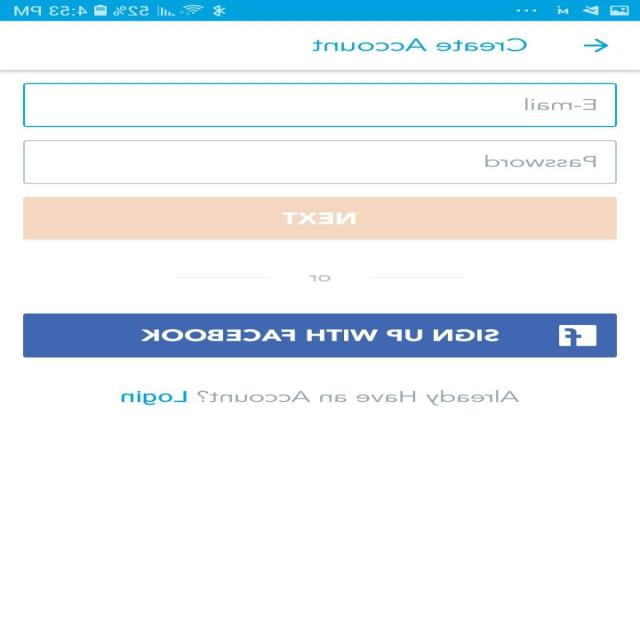EditText: (24, 139, 618, 184), (24, 83, 618, 127)
Icon: (583, 38, 609, 53)
Text: (122, 389, 520, 406), (313, 37, 527, 52), (486, 155, 596, 167), (526, 98, 596, 110), (308, 275, 332, 281)
TextButton: (24, 196, 618, 240), (24, 313, 618, 357)
